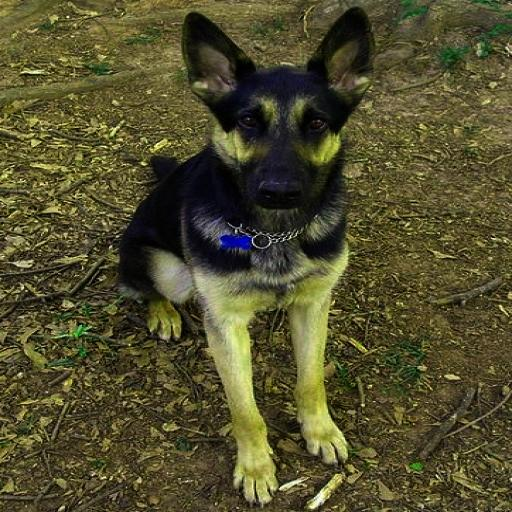dog_face: (182, 6, 371, 208)
